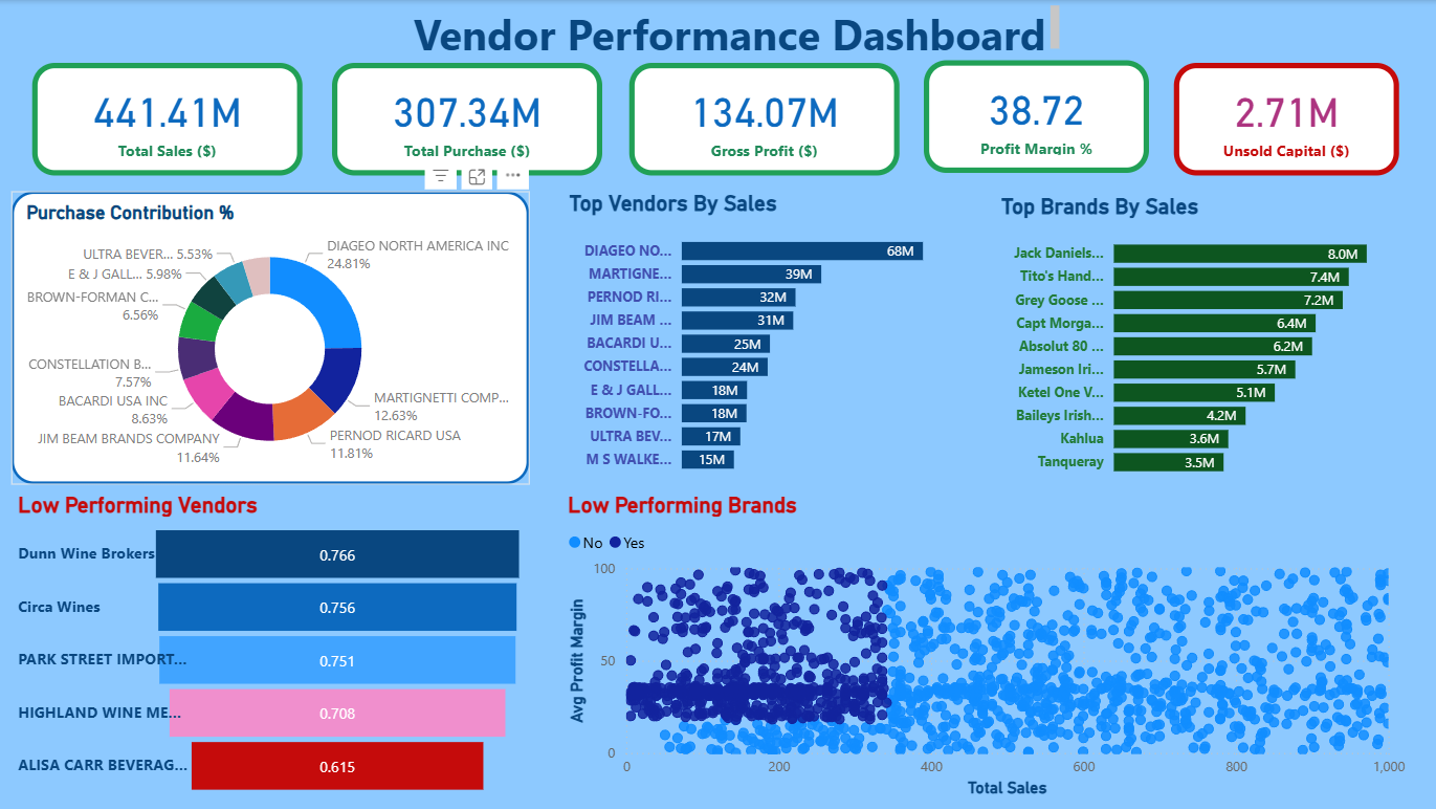

The page's visual inventory and layout, read from the dashboard file:
{"tool":"powerbi","page":{"name":"Page 1","canvas":[1280,720],"ordinal":0},"visuals":[{"type":"card","fields":{"Values":["Sum(vendor_performance_analysis (2).TotalSalesDollars)"]},"box":[31.4,55.7,240,100],"z":0},{"type":"card","fields":{"Values":["Sum(vendor_performance_analysis (2).TotalPurchaseDollars)"]},"box":[297.1,55.7,240,100],"z":1},{"type":"card","fields":{"Values":["Sum(vendor_performance_analysis (2).GrossProfit)"]},"box":[561.4,55.7,240,100],"z":2},{"type":"card","fields":{"Values":["Avg(vendor_performance_analysis (2).ProfitMargin)"]},"box":[823.3,53.5,200,100],"z":3},{"type":"card","fields":{"Values":["Sum(vendor_sales_summary.UnsoldInventoryValue)"]},"box":[1045.7,55.7,200,100],"z":4},{"type":"textbox","box":[360.5,0,588.4,53.5],"z":5},{"type":"donutChart","title":"Purchase Contribution %","fields":{"Category":["PurchaseContribution.VendorName"],"Y":["Sum(PurchaseContribution.PurchaseContribution%)"]},"box":[13.3,170,460,260],"z":6},{"type":"barChart","title":"Top Vendors By Sales","fields":{"Category":["vendor_sales_summary.VendorName"],"Y":["Sum(vendor_sales_summary.TotalSalesDollars)"]},"box":[503.3,170,370,260],"z":7},{"type":"barChart","title":"Top Brands By Sales","fields":{"Category":["vendor_sales_summary.Description"],"Y":["Sum(vendor_sales_summary.TotalSalesDollars)"]},"box":[886.7,171.7,370,260],"z":8},{"type":"funnel","title":"Low Performing Vendors","fields":{"Category":["LowTurnoverVendor.VendorName"],"Y":["Avg(LowTurnoverVendor.AverageStockTurnover)"]},"box":[13.8,437.5,460,273.8],"z":9},{"type":"scatterChart","title":"Low Performing Brands","fields":{"Category":["BrandsPerformance.Description"],"Y":["Avg(BrandsPerformance.AvgProfitMargin)"],"Series":["BrandsPerformance.TargetBrand"],"X":["Sum(BrandsPerformance.TotalSales)"]},"box":[502.5,437.5,753.8,275],"z":10}]}

Visuals, with their boxes in screenshot pixels (x1, y1, x2, y2), scaled from the page's 1280x720 canvas onto the 1436x809 screenshot:
card - Sum(vendor_performance_analysis (2).TotalSalesDollars): (left=35, top=63, right=304, bottom=175)
card - Sum(vendor_performance_analysis (2).TotalPurchaseDollars): (left=333, top=63, right=603, bottom=175)
card - Sum(vendor_performance_analysis (2).GrossProfit): (left=630, top=63, right=899, bottom=175)
card - Avg(vendor_performance_analysis (2).ProfitMargin): (left=924, top=60, right=1148, bottom=172)
card - Sum(vendor_sales_summary.UnsoldInventoryValue): (left=1173, top=63, right=1398, bottom=175)
textbox: (left=404, top=0, right=1065, bottom=60)
"Purchase Contribution %" donutChart: (left=15, top=191, right=531, bottom=483)
"Top Vendors By Sales" barChart: (left=565, top=191, right=980, bottom=483)
"Top Brands By Sales" barChart: (left=995, top=193, right=1410, bottom=485)
"Low Performing Vendors" funnel: (left=15, top=492, right=532, bottom=799)
"Low Performing Brands" scatterChart: (left=564, top=492, right=1409, bottom=801)
